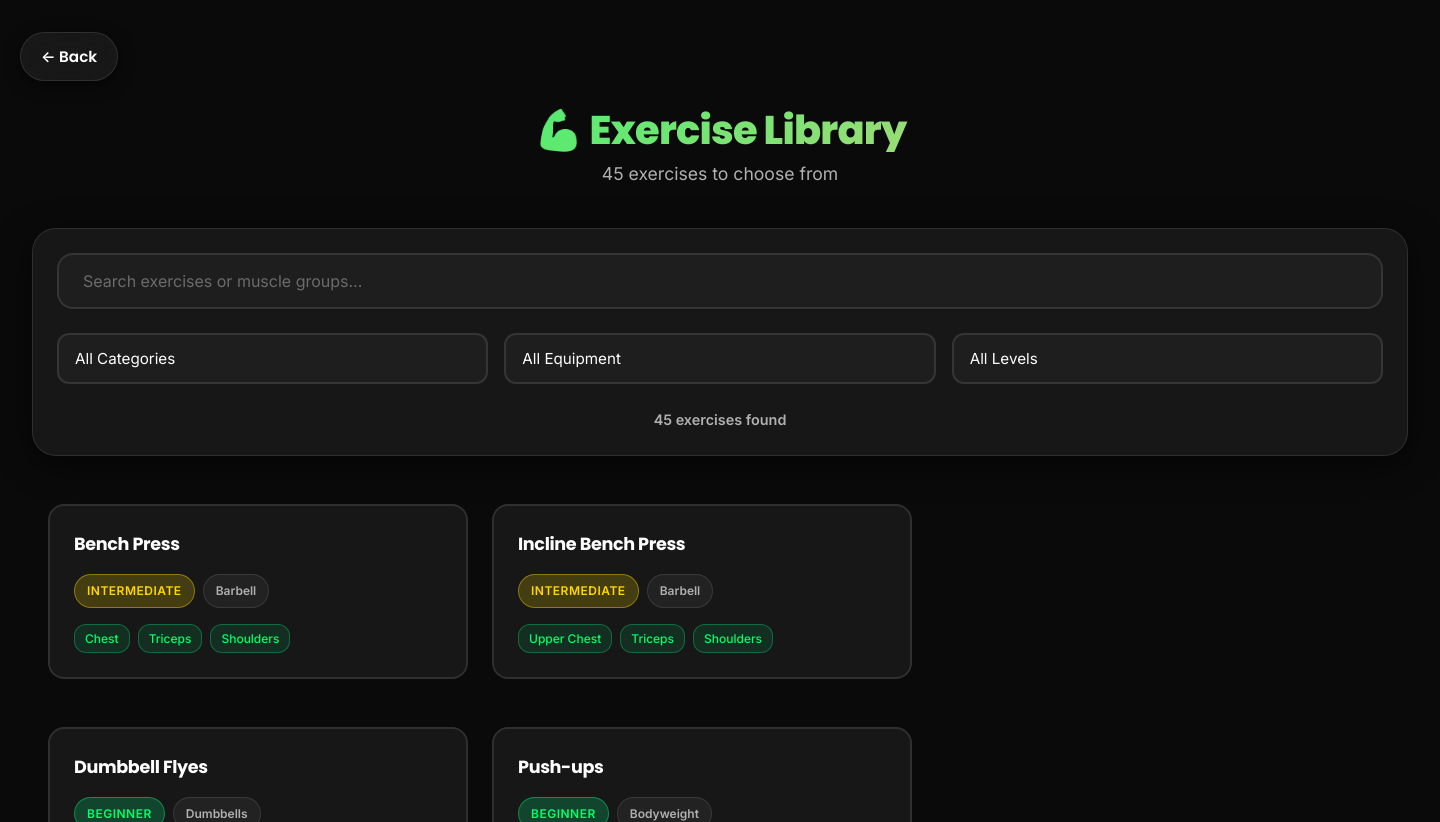
Scenario: ExerciseLibrary › Filter Functionality › should filter by difficulty
This screenshot has width=1440, height=822.
Select "Beginner" in the 3rd dropdown. click: (1167,359)
box: [952,333,1383,384]
(page scrolled)
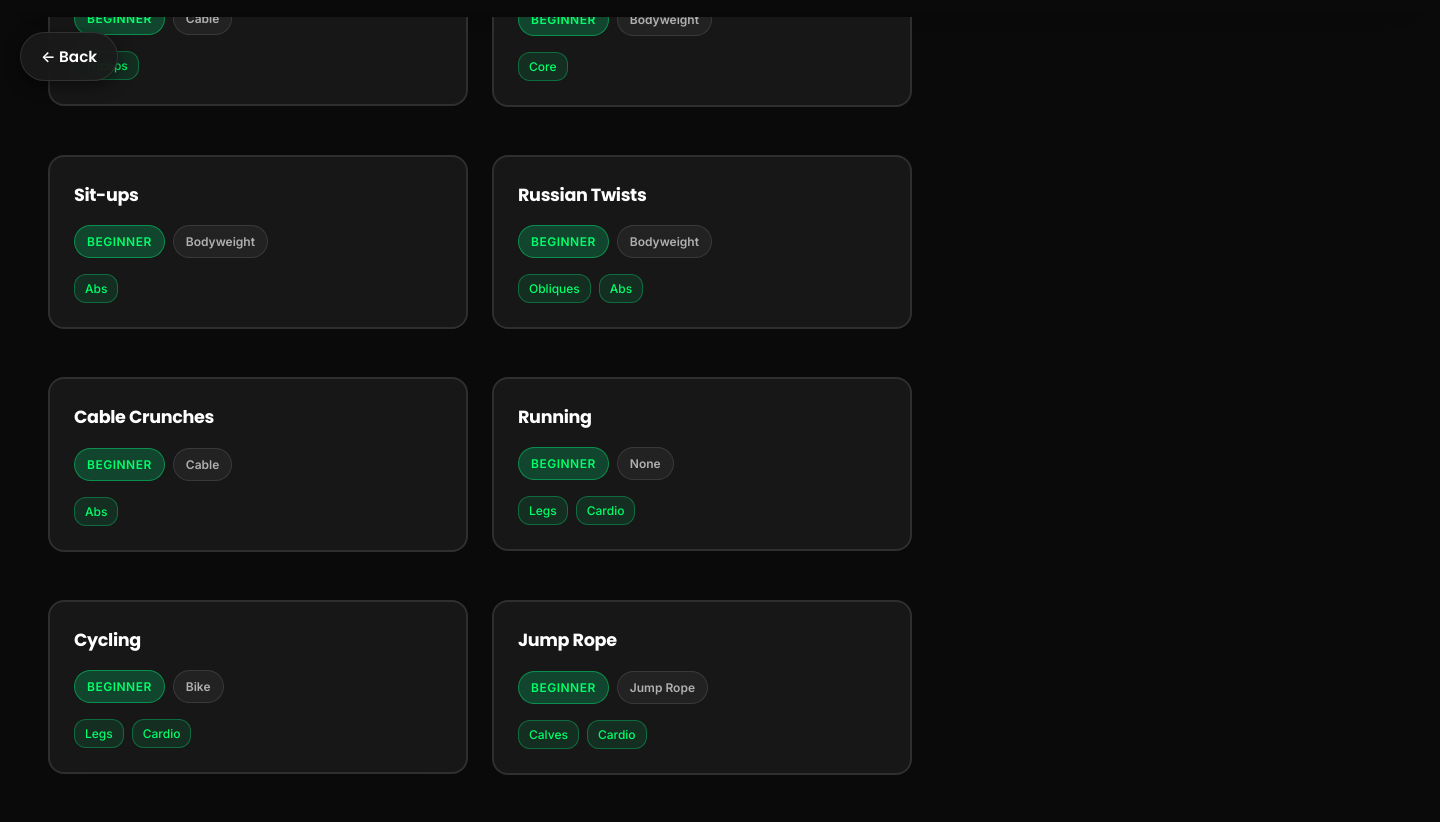
Result: the heading "Running" is shown at [518,405,592,429]
